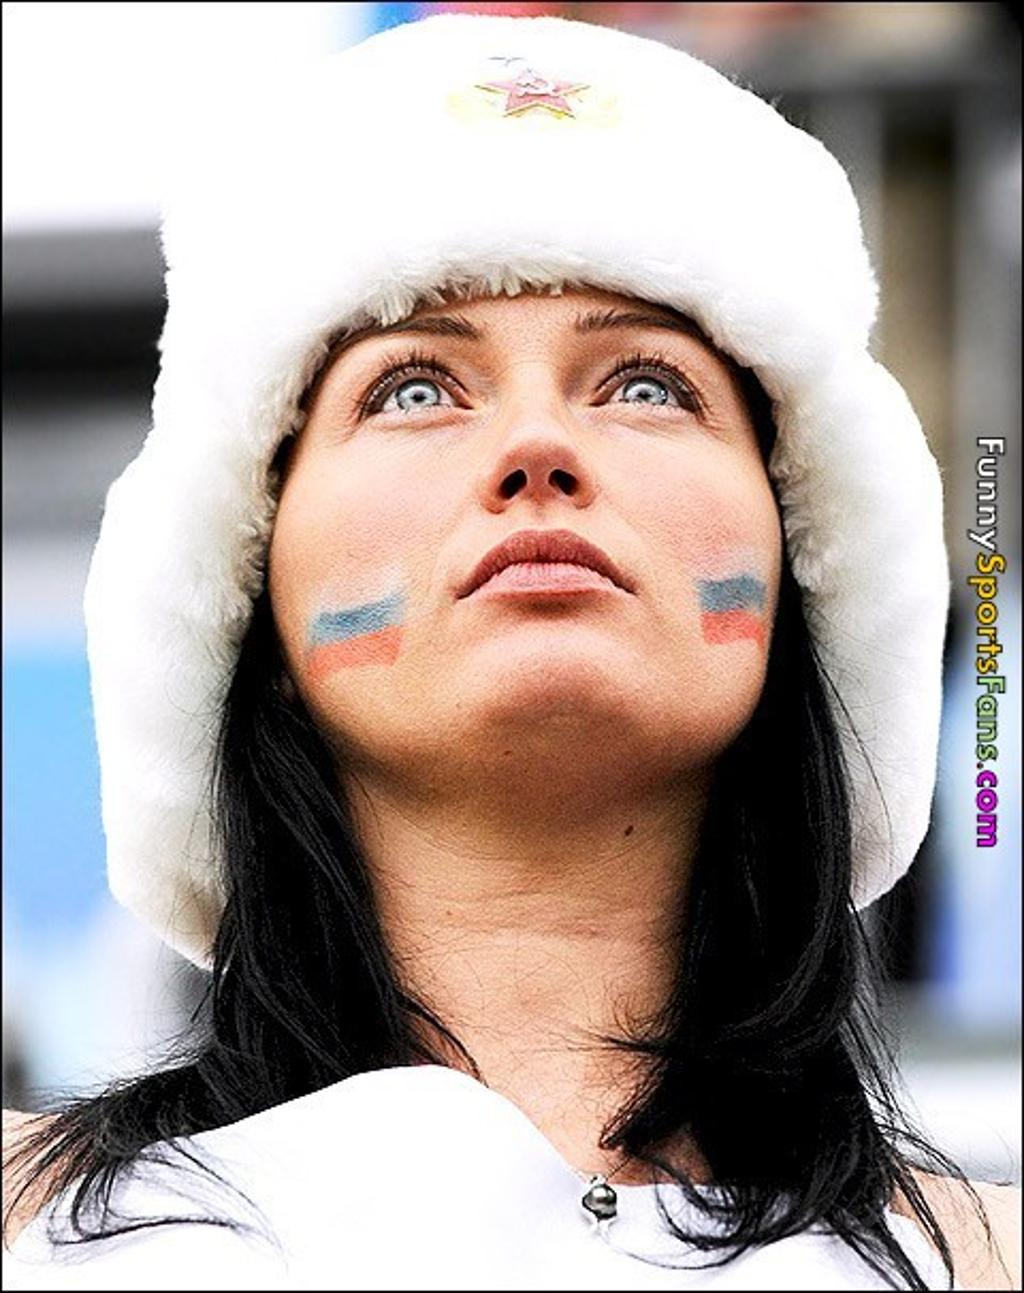face: (270, 250, 787, 734)
